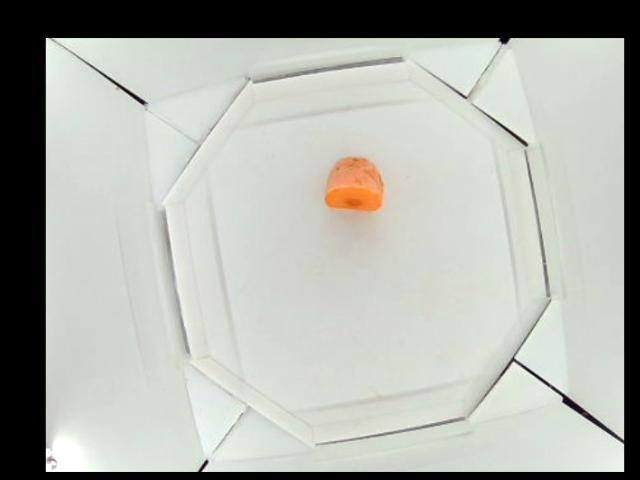Carrot: (325, 156, 385, 209)
